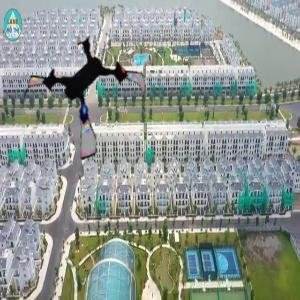drone: (23, 32, 152, 161)
